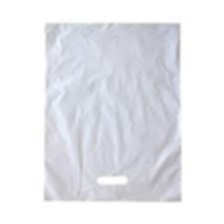plastic_bag: (39, 17, 185, 207)
